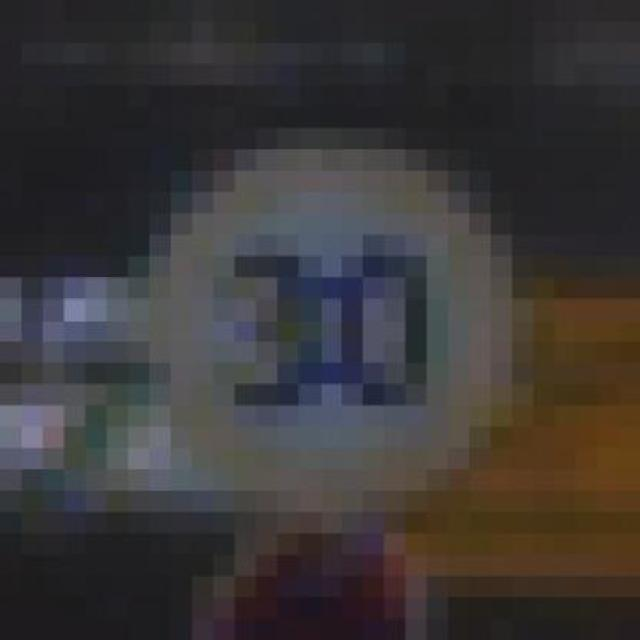Speed Limit 30 KMPh: (107, 106, 555, 534)
